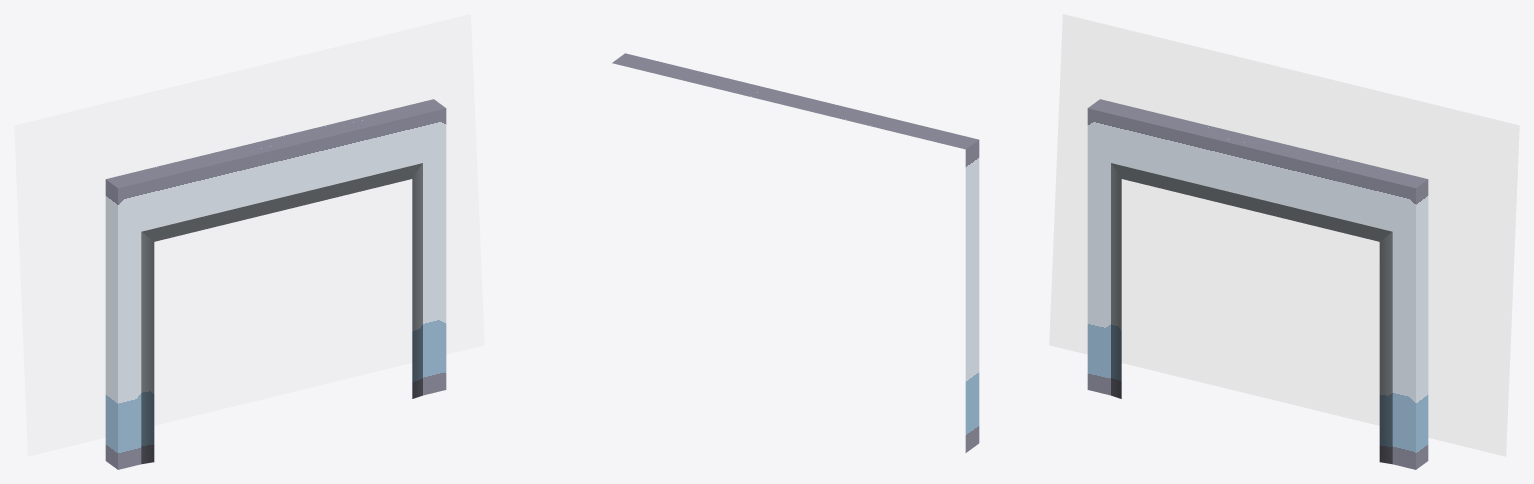
The picture shows the model from 3 angles, left to right: view 1: azimuth 30°, elevation 25°; view 2: azimuth 150°, elevation 25°; view 3: azimuth 330°, elevation 25°; orthographic projection. The views are drawn at different scales.
Size of the model in its own units: 4.87 by 3.38 by 0.749.
2 materials, 2 textured.
